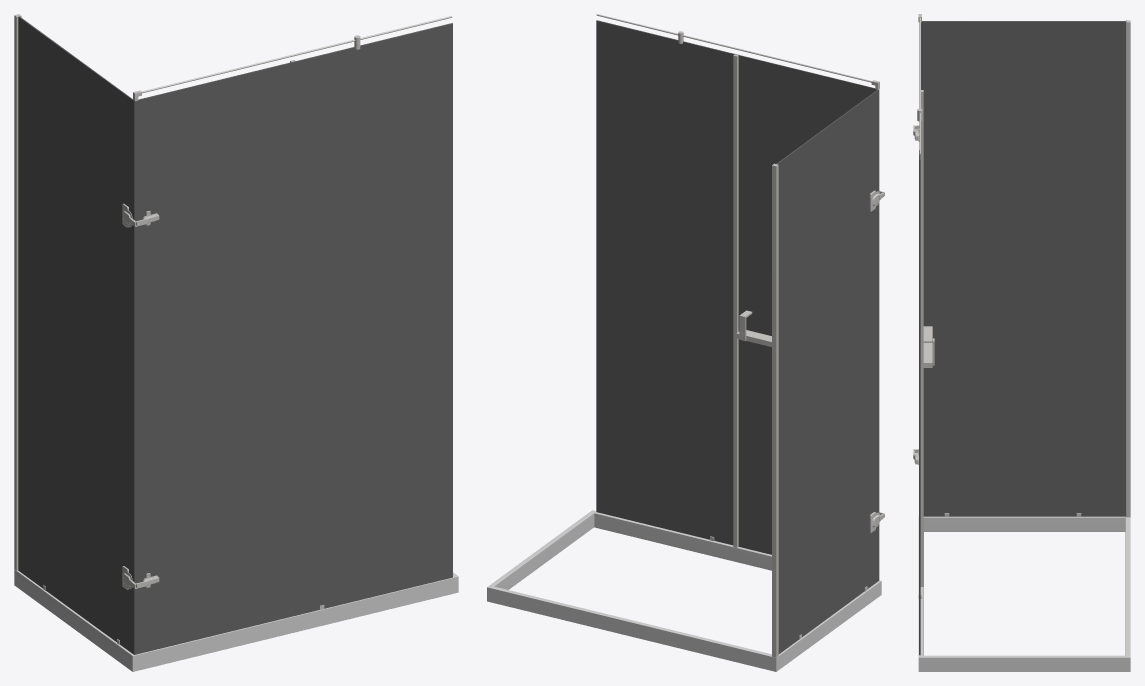
Rendered from Shower_enclosures_008.gltf.
The picture shows the model from 3 angles, left to right: view 1: azimuth 30°, elevation 25°; view 2: azimuth 150°, elevation 25°; view 3: azimuth 270°, elevation 25°; orthographic projection. The views are drawn at different scales.
Parts seen in each view (by area): view 1: Shower_enclosures_008; view 2: Shower_enclosures_008; view 3: Shower_enclosures_008.
Boxes of the visible parts, x1,y1,x2,y2 form: Shower_enclosures_008: (14, 14, 458, 671); Shower_enclosures_008: (487, 14, 884, 671); Shower_enclosures_008: (913, 14, 1130, 671).
Size of the model in its own units: 1.18 by 2 by 0.76.
2 materials, 2 textured.
